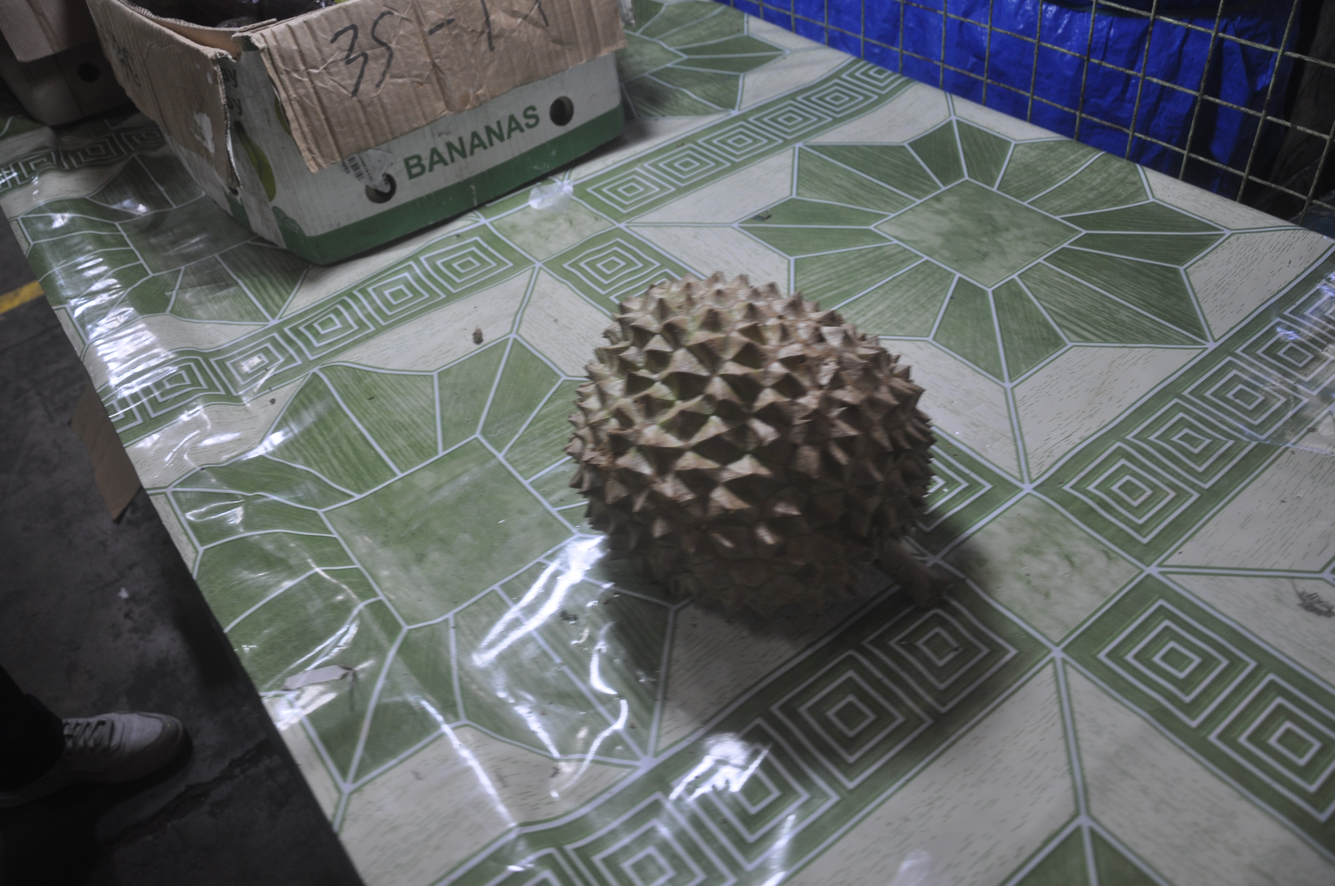mature: (566, 273, 949, 624)
